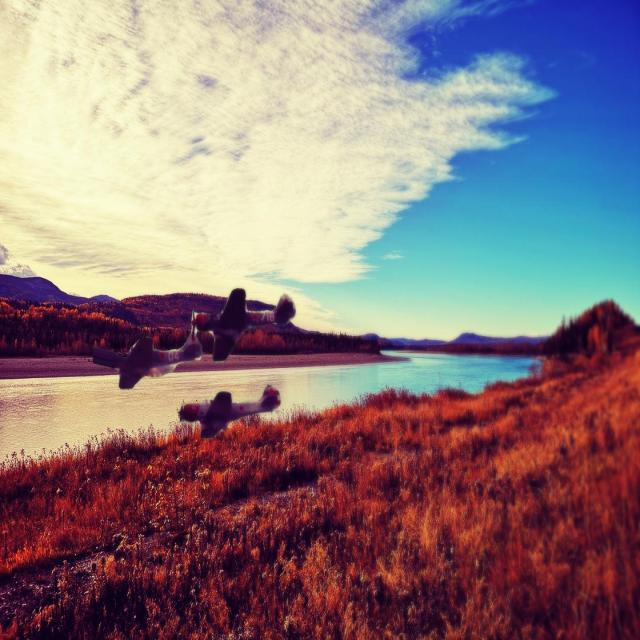airplane: (190, 287, 296, 361), (91, 325, 203, 389), (177, 384, 281, 439)
